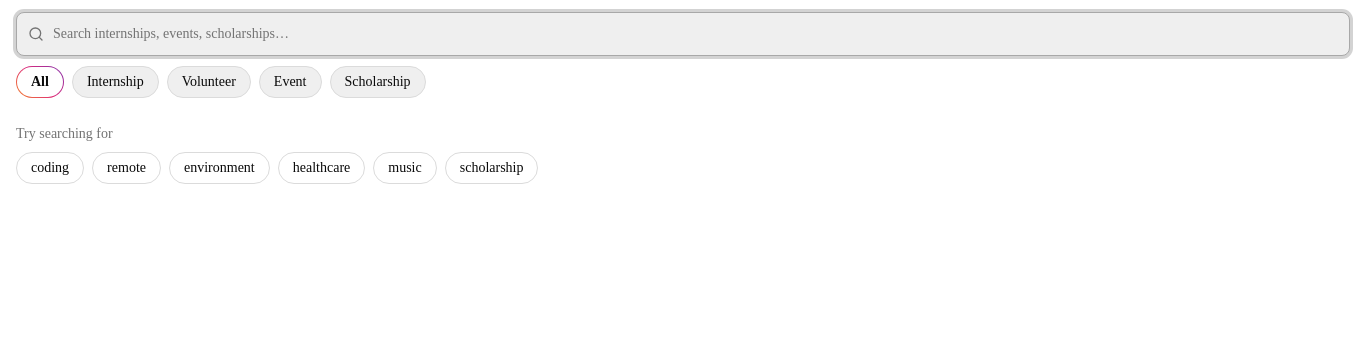
Test: search › shows an empty state when nothing matches
Type "zzqqxx" into the search field named "Search opportunities".
click(683, 34); type("zzqqxx")  # box [16, 12, 1350, 56]
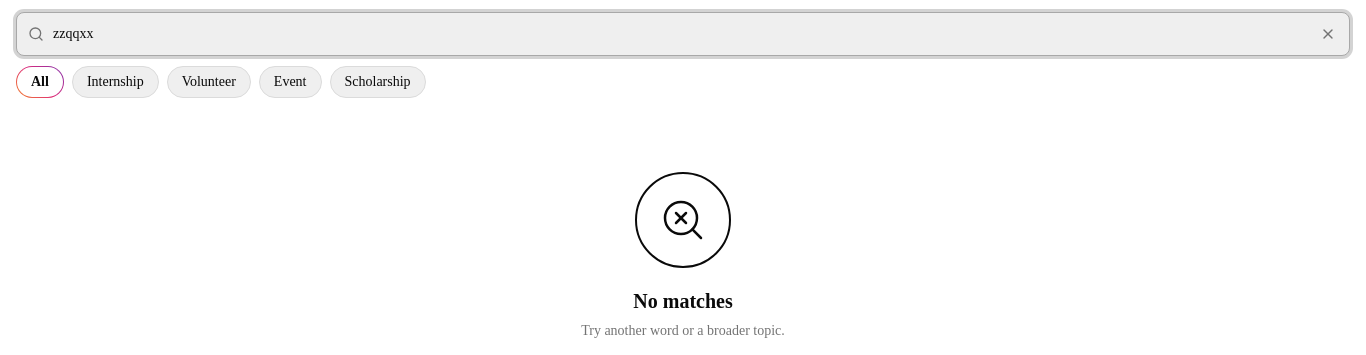
Check: the heading "No matches" is shown, box [633, 288, 733, 314]
